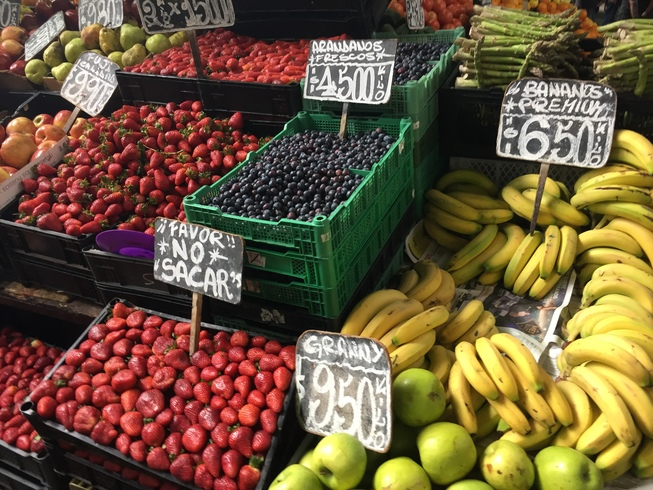precio: (496, 73, 620, 175), (295, 331, 394, 452), (152, 216, 253, 307), (300, 33, 403, 104), (53, 49, 128, 118), (138, 1, 235, 36), (22, 13, 71, 63), (77, 1, 124, 32)
